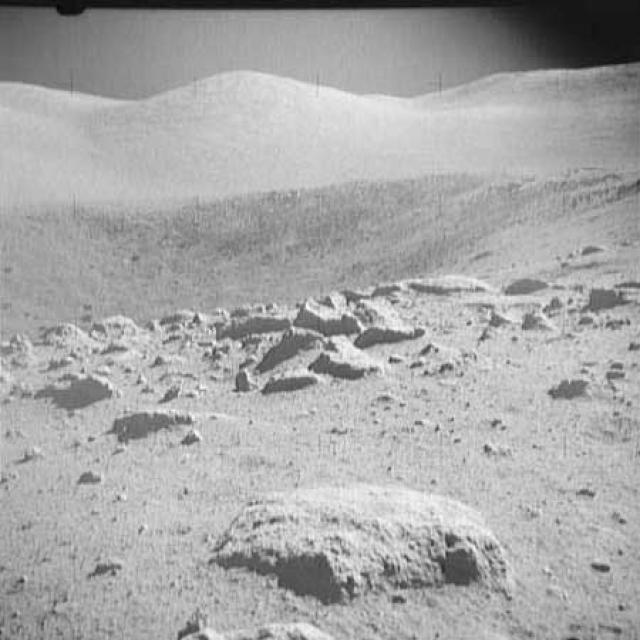crater: (0, 176, 639, 336)
rock: (228, 483, 506, 602), (115, 403, 262, 441), (347, 292, 414, 338), (318, 333, 374, 385), (175, 623, 343, 639), (372, 270, 483, 292), (300, 293, 359, 331), (54, 365, 112, 400), (226, 305, 294, 332), (39, 318, 90, 348), (503, 270, 553, 295), (514, 306, 560, 332), (584, 279, 620, 311), (99, 314, 143, 339), (484, 309, 508, 331)
